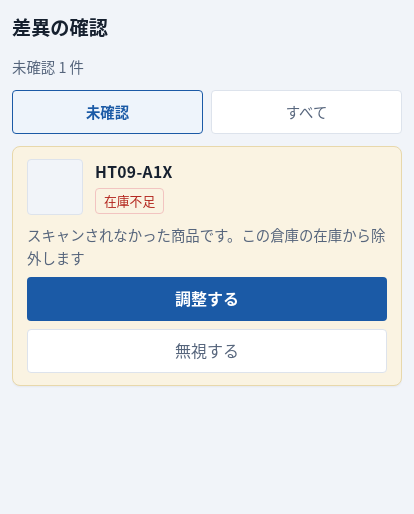
Test: stocktake difference review (M3-6) › retries a failed confirm with the same clientReqId (7.0 replay)
Click the button "調整する": (207, 299) [27,277,387,321]
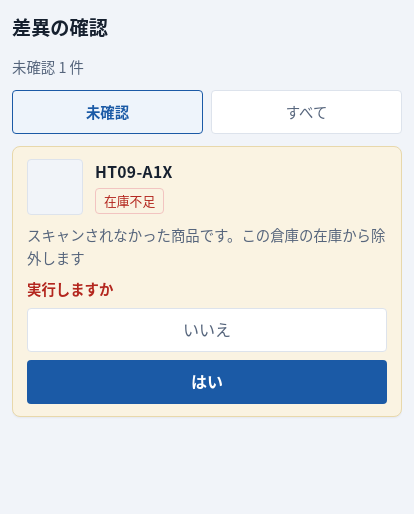
Click the button "はい": (207, 382) [27,360,387,404]
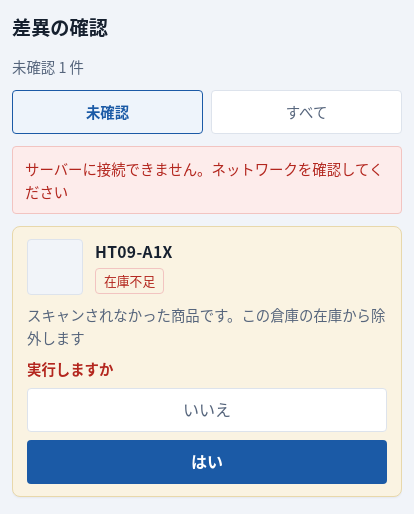
Now the message with class "diff-action-error" shows "サーバーに接続できません", box [25,158,383,202]
Click the button "はい": (207, 462) [27,440,387,484]
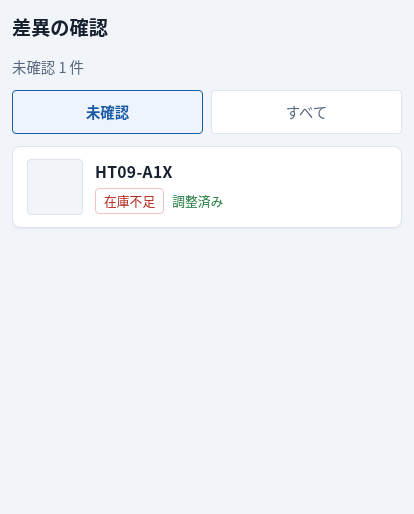
Now the element with class "diff-row" shows "調整済み", box [172,191,223,210]
